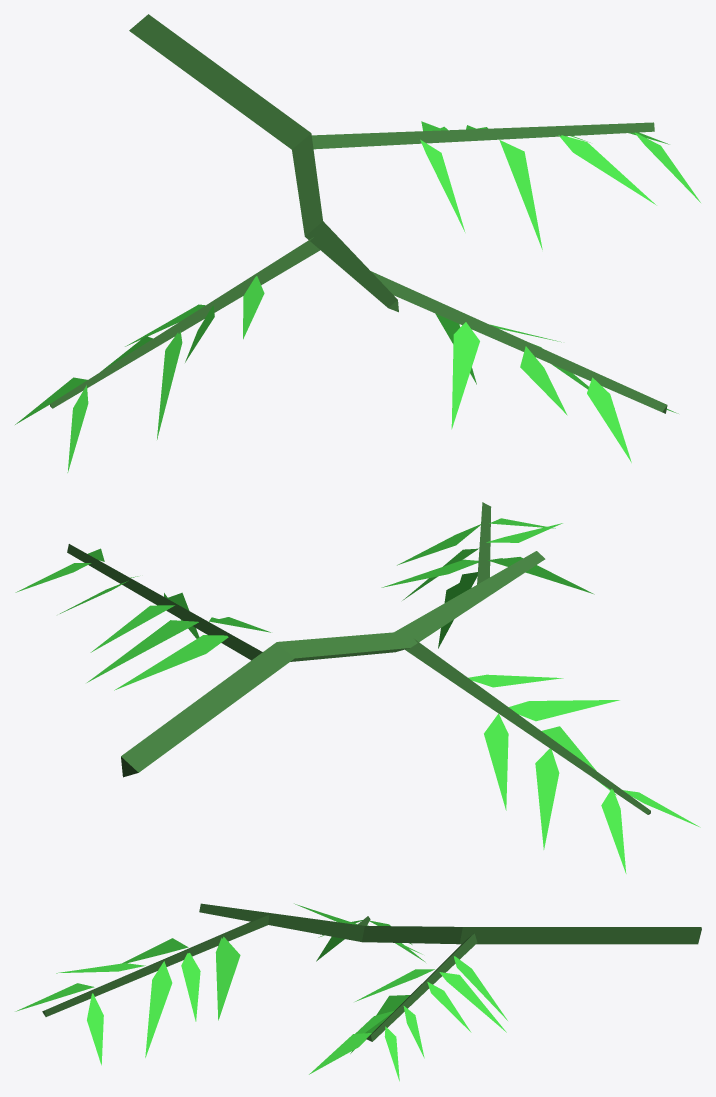
The model's file is BambooBranch3.fbx.
The picture shows the model from 3 angles, top to bottom: view 1: azimuth 30°, elevation 25°; view 2: azimuth 150°, elevation 25°; view 3: azimuth 270°, elevation 25°; orthographic projection. The views are drawn at different scales.
Visible parts, largest first — view 1: Branch3; view 2: Branch3; view 3: Branch3.
Part boxes in pixels (left/top/right/bottom): Branch3: left=15, top=14, right=700, bottom=472; Branch3: left=15, top=502, right=700, bottom=873; Branch3: left=15, top=903, right=701, bottom=1081.
Bounding box in the file's own units: 35.79 × 9.67 × 44.04.
